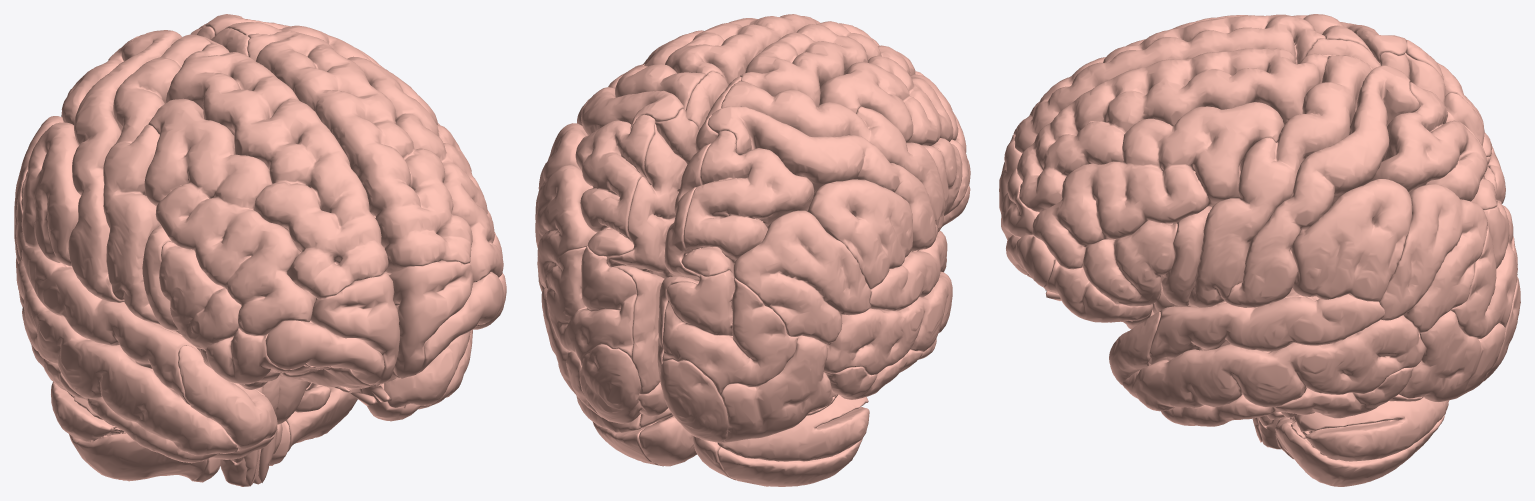
Rendered from brain.glb.
The picture shows the model from 3 angles, left to right: view 1: azimuth 30°, elevation 25°; view 2: azimuth 150°, elevation 25°; view 3: azimuth 270°, elevation 25°; orthographic projection. The views are drawn at different scales.
Visible parts, largest first — view 1: Allen_superior_frontal_gyrus_L, Allen_middle_frontal_gyrus_L, Allen_superior_frontal_gyrus_R, Allen_middle_temporal_gyrus_L, Allen_precentral_gyrus_L, Allen_postcentral_gyrus_L, Allen_superior_temporal_gyrus_L, Allen_middle_frontal_gyrus_R, Allen_supramarginal_gyrus_L, Allen_rostral_gyrus_R, Allen_lateral_hemisphere_of_cerebellum_L, Allen_inferior_frontal_gyrus_triangular_part_L (+19 smaller); view 2: Allen_angular_gyrus_L, Allen_supraparietal_lobule_L, Allen_superior_occipital_gyrus_L, Allen_postcentral_gyrus_L, Allen_lateral_hemisphere_of_cerebellum_L, Allen_superior_occipital_gyrus_R, Allen_supraparietal_lobule_R, Allen_precentral_gyrus_L, Allen_supramarginal_gyrus_L, Allen_middle_frontal_gyrus_L, Allen_superior_frontal_gyrus_L, Allen_inferior_occipital_gyrus_L (+24 smaller); view 3: Allen_middle_frontal_gyrus_R, Allen_superior_frontal_gyrus_R, Allen_middle_temporal_gyrus_R, Allen_precentral_gyrus_R, Allen_postcentral_gyrus_R, Allen_supramarginal_gyrus_R, Allen_angular_gyrus_R, Allen_superior_temporal_gyrus_R, Allen_lateral_hemisphere_of_cerebellum_R, Allen_superior_frontal_gyrus_L, Allen_supraparietal_lobule_R, Allen_inferior_frontal_gyrus_triangular_part_R (+16 smaller).
Part boxes in pixels (<box>): Allen_superior_frontal_gyrus_L: <box>165,43,388,299</box>; Allen_middle_frontal_gyrus_L: <box>144,98,315,335</box>; Allen_superior_frontal_gyrus_R: <box>247,31,472,273</box>; Allen_middle_temporal_gyrus_L: <box>16,260,238,455</box>; Allen_precentral_gyrus_L: <box>103,34,210,325</box>; Allen_postcentral_gyrus_L: <box>68,30,181,302</box>; Allen_superior_temporal_gyrus_L: <box>21,245,196,404</box>; Allen_middle_frontal_gyrus_R: <box>347,56,503,282</box>; Allen_supramarginal_gyrus_L: <box>21,122,81,266</box>; Allen_rostral_gyrus_R: <box>389,260,473,378</box>; Allen_lateral_hemisphere_of_cerebellum_L: <box>51,382,207,481</box>; Allen_inferior_frontal_gyrus_triangular_part_L: <box>159,241,241,350</box>; Allen_angular_gyrus_L: <box>733,210,870,344</box>; Allen_supraparietal_lobule_L: <box>681,130,814,276</box>; Allen_superior_occipital_gyrus_L: <box>662,270,798,395</box>; Allen_postcentral_gyrus_L: <box>707,106,938,251</box>; Allen_lateral_hemisphere_of_cerebellum_L: <box>717,394,869,486</box>; Allen_superior_occipital_gyrus_R: <box>546,245,636,365</box>; Allen_supraparietal_lobule_R: <box>575,114,655,256</box>; Allen_precentral_gyrus_L: <box>721,81,944,231</box>; Allen_supramarginal_gyrus_L: <box>807,179,912,289</box>; Allen_middle_frontal_gyrus_L: <box>819,55,966,152</box>; Allen_superior_frontal_gyrus_L: <box>740,21,923,106</box>; Allen_inferior_occipital_gyrus_L: <box>721,335,836,442</box>; Allen_middle_frontal_gyrus_R: <box>1032,102,1284,269</box>; Allen_superior_frontal_gyrus_R: <box>1017,48,1327,212</box>; Allen_middle_temporal_gyrus_R: <box>1122,315,1425,411</box>; Allen_precentral_gyrus_R: <box>1188,55,1371,307</box>; Allen_postcentral_gyrus_R: <box>1225,65,1420,307</box>; Allen_supramarginal_gyrus_R: <box>1290,179,1412,301</box>; Allen_angular_gyrus_R: <box>1379,184,1487,333</box>; Allen_superior_temporal_gyrus_R: <box>1149,294,1384,365</box>; Allen_lateral_hemisphere_of_cerebellum_R: <box>1267,397,1448,486</box>; Allen_superior_frontal_gyrus_L: <box>1013,14,1325,153</box>; Allen_supraparietal_lobule_R: <box>1371,82,1497,209</box>; Allen_inferior_frontal_gyrus_triangular_part_R: <box>1082,220,1177,306</box>.
Bounding box in the file's own units: 0.1364 × 0.1461 × 0.167.
